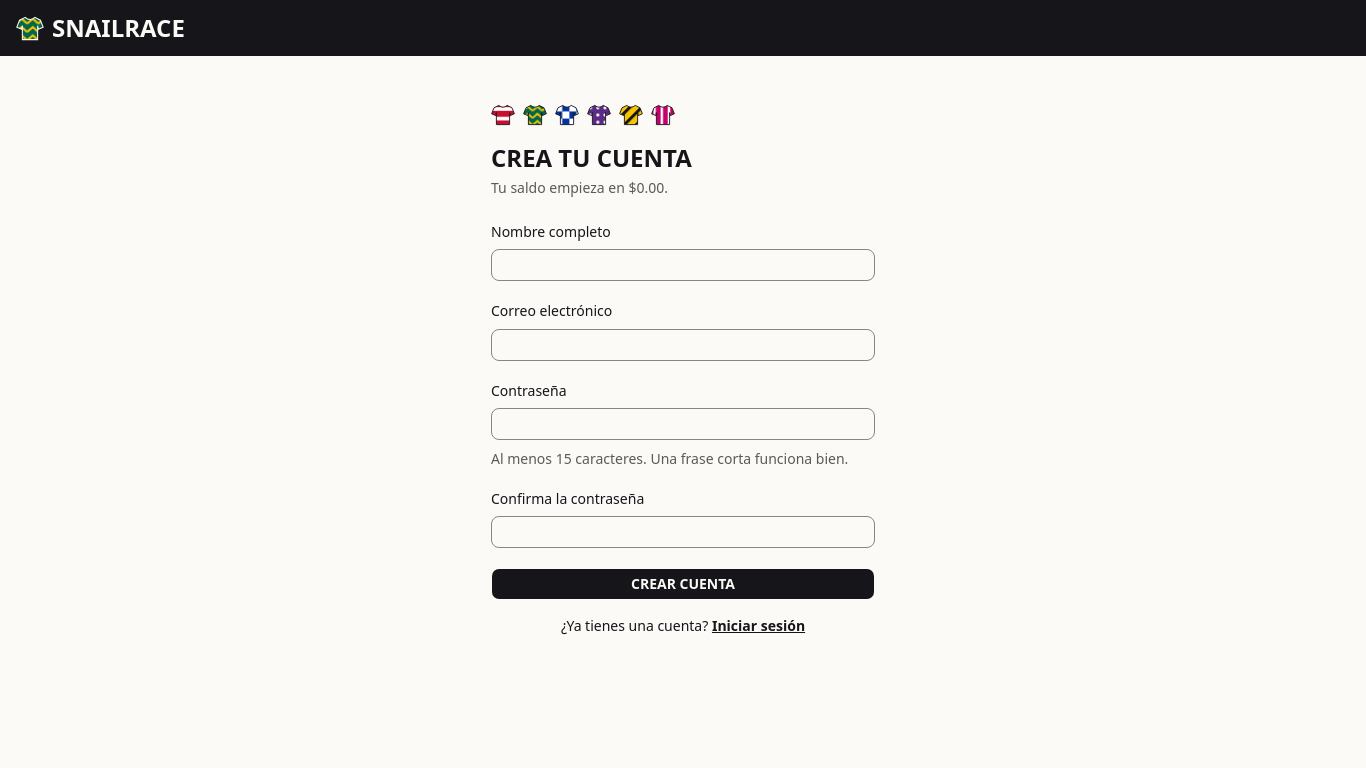
Test: shows the duplicate-email message with a link to sign in
Type "Ana Two" into the field labelled "Nombre completo" at (683,265), box [491, 249, 875, 281]
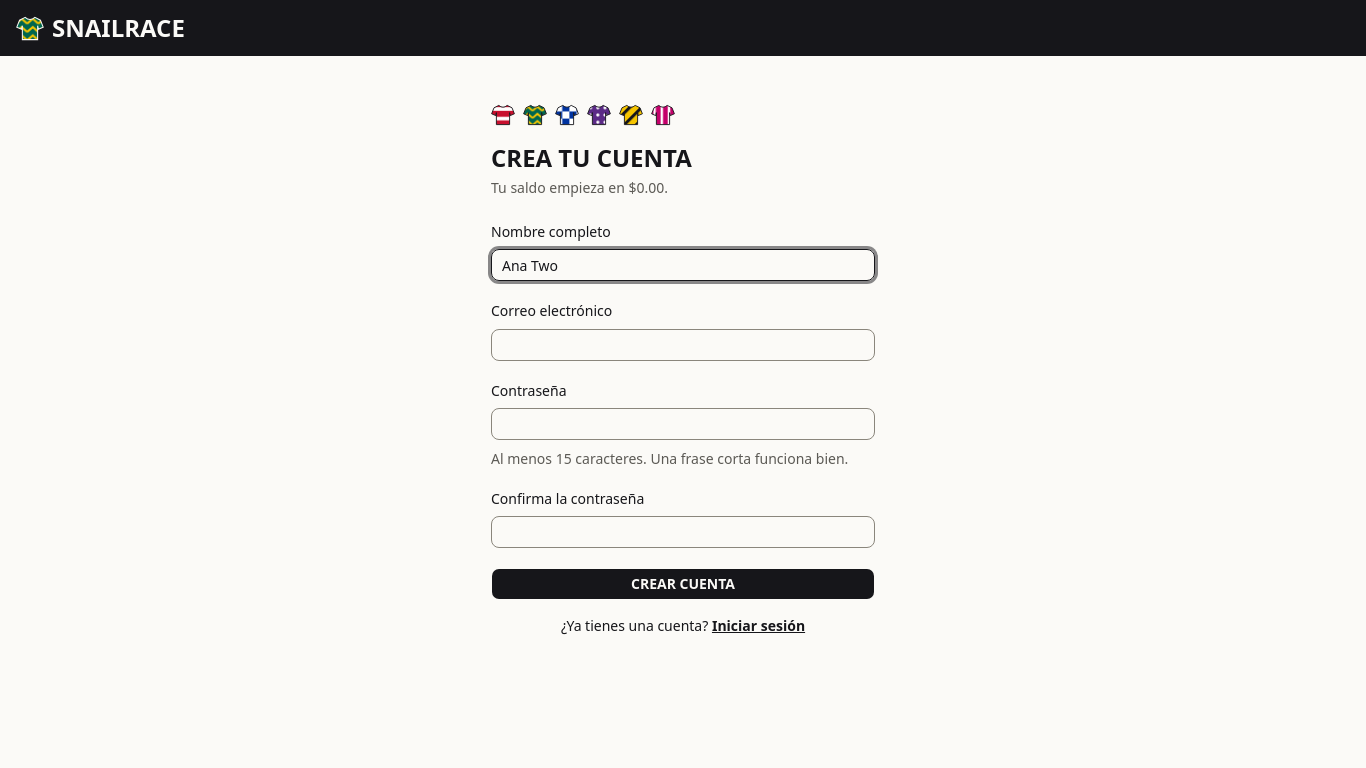
Type "ANA@example.com" into the field labelled "Correo electrónico" at (683,344), box [491, 328, 875, 360]
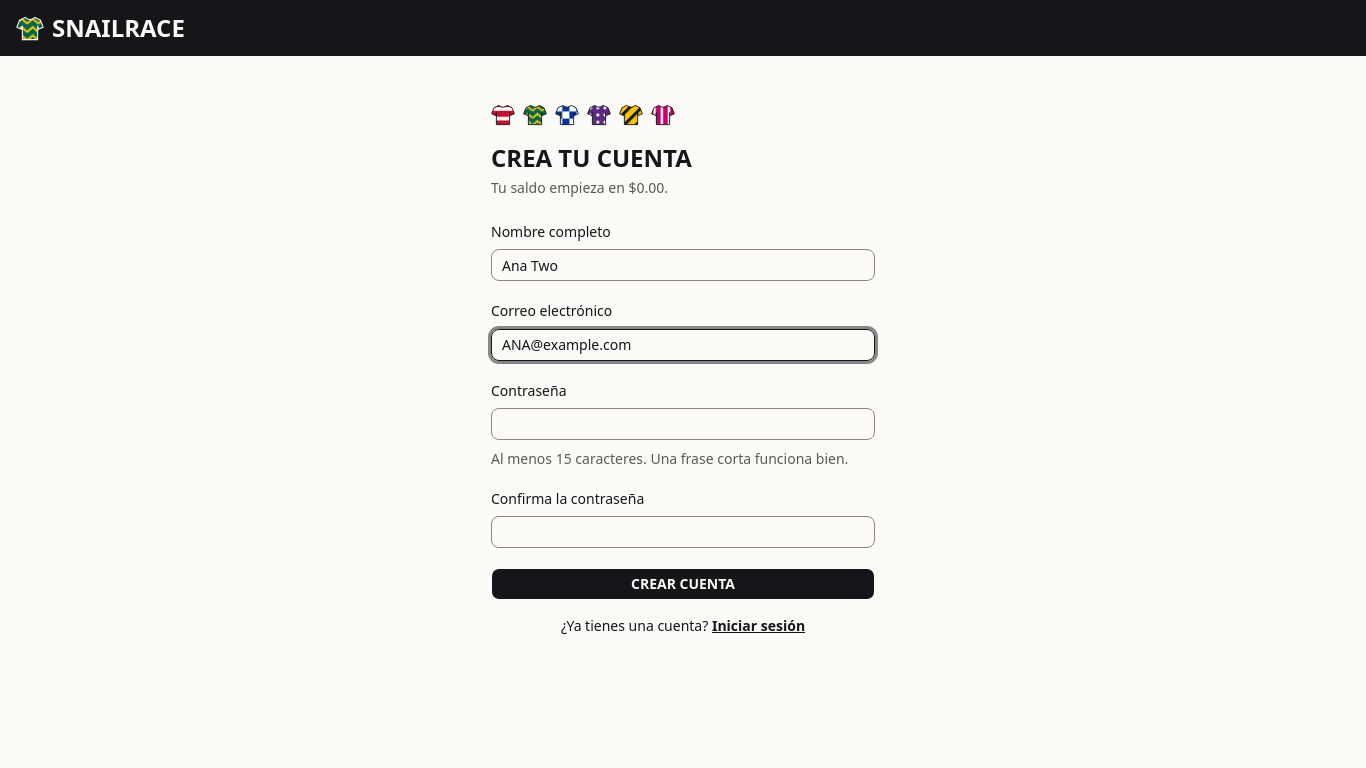
Type "another long pass phrase" into the password field labelled "Contraseña" at (683,424), box [491, 408, 875, 440]
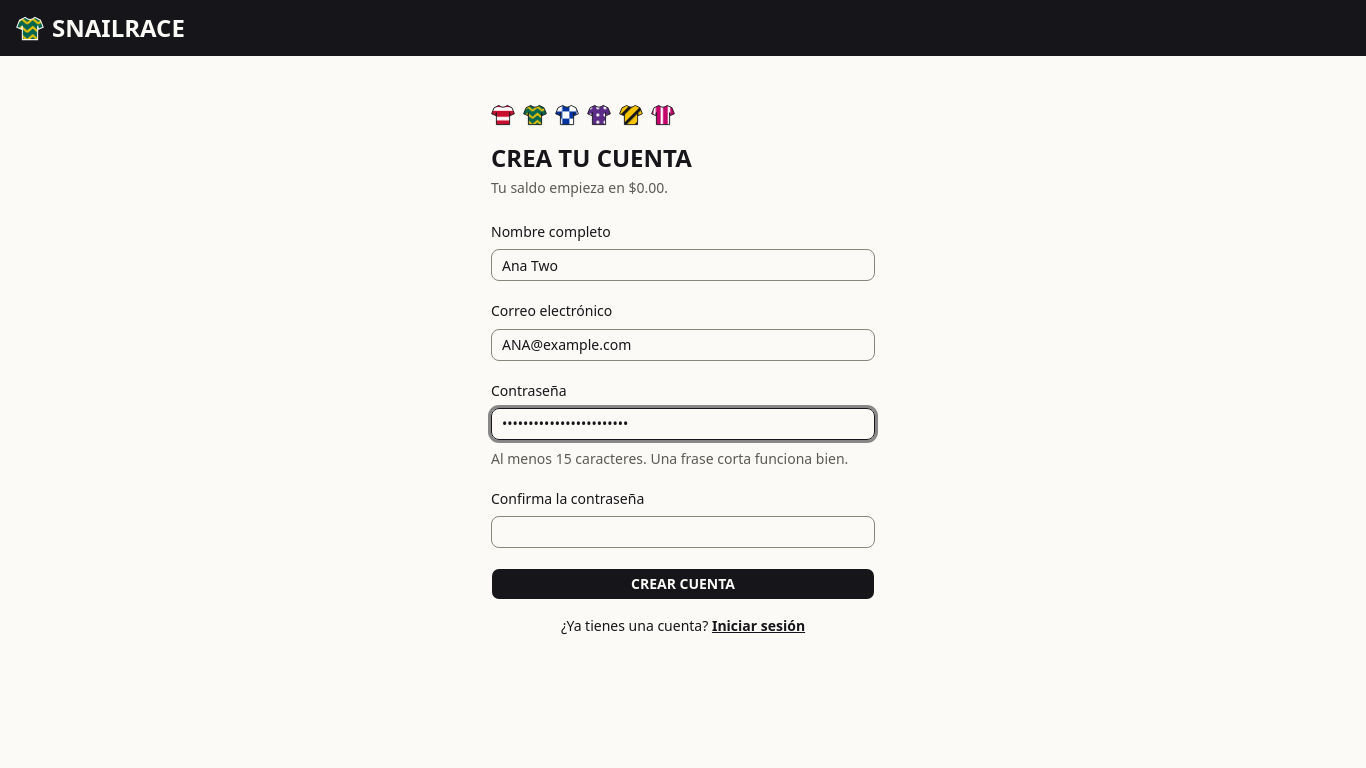
Type "another long pass phrase" into the password field labelled "Confirma la contraseña" at (683,532), box [491, 516, 875, 548]
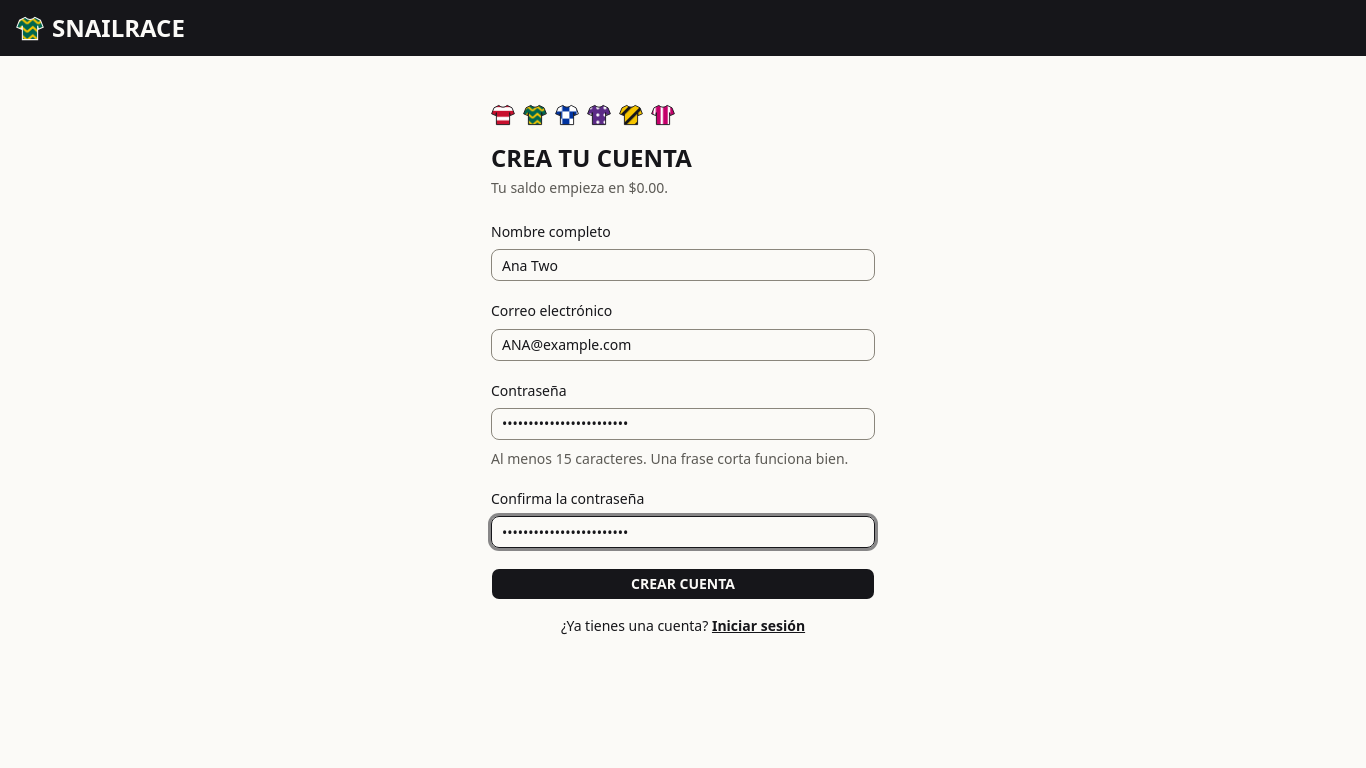
Click the button "Crear cuenta" at (683,584), box [491, 568, 875, 600]
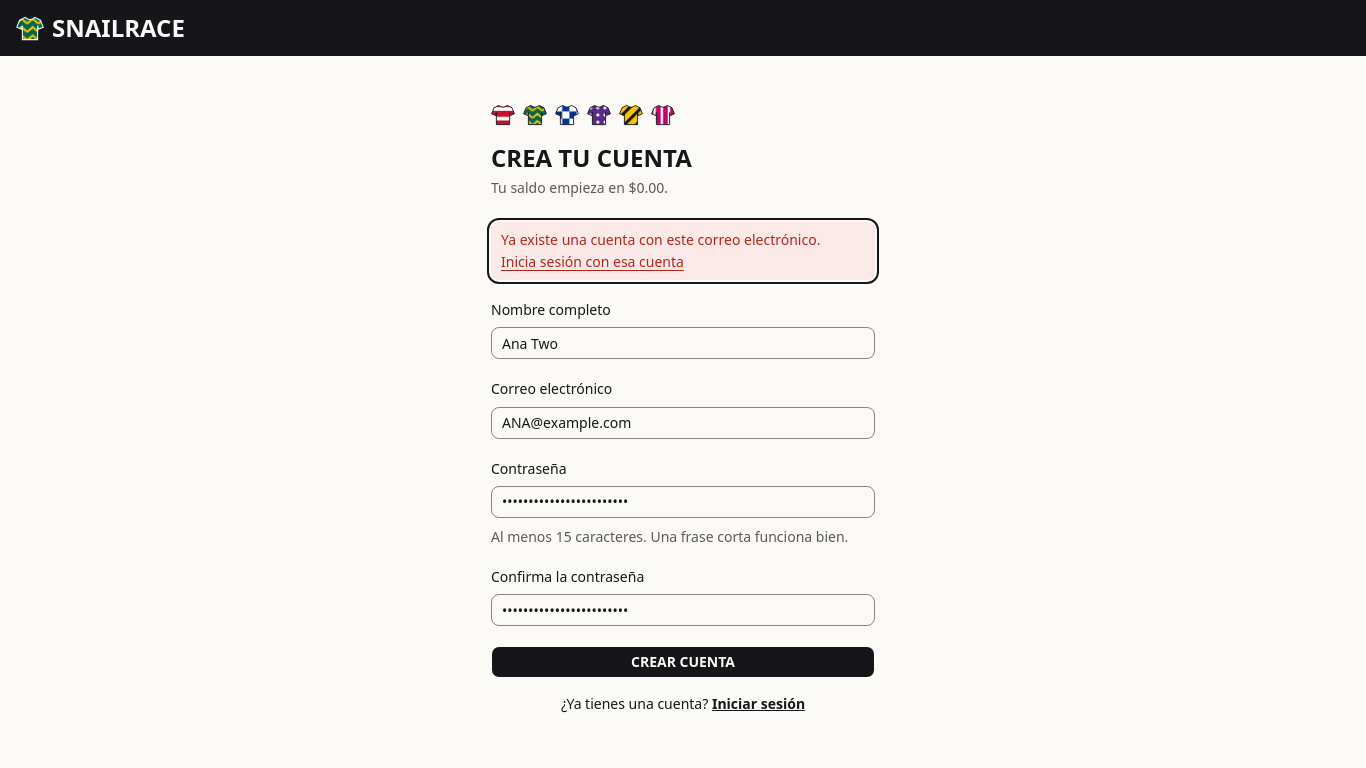
Now the text "Ya existe una cuenta con este correo electrónico." is shown, box [501, 230, 865, 250]
